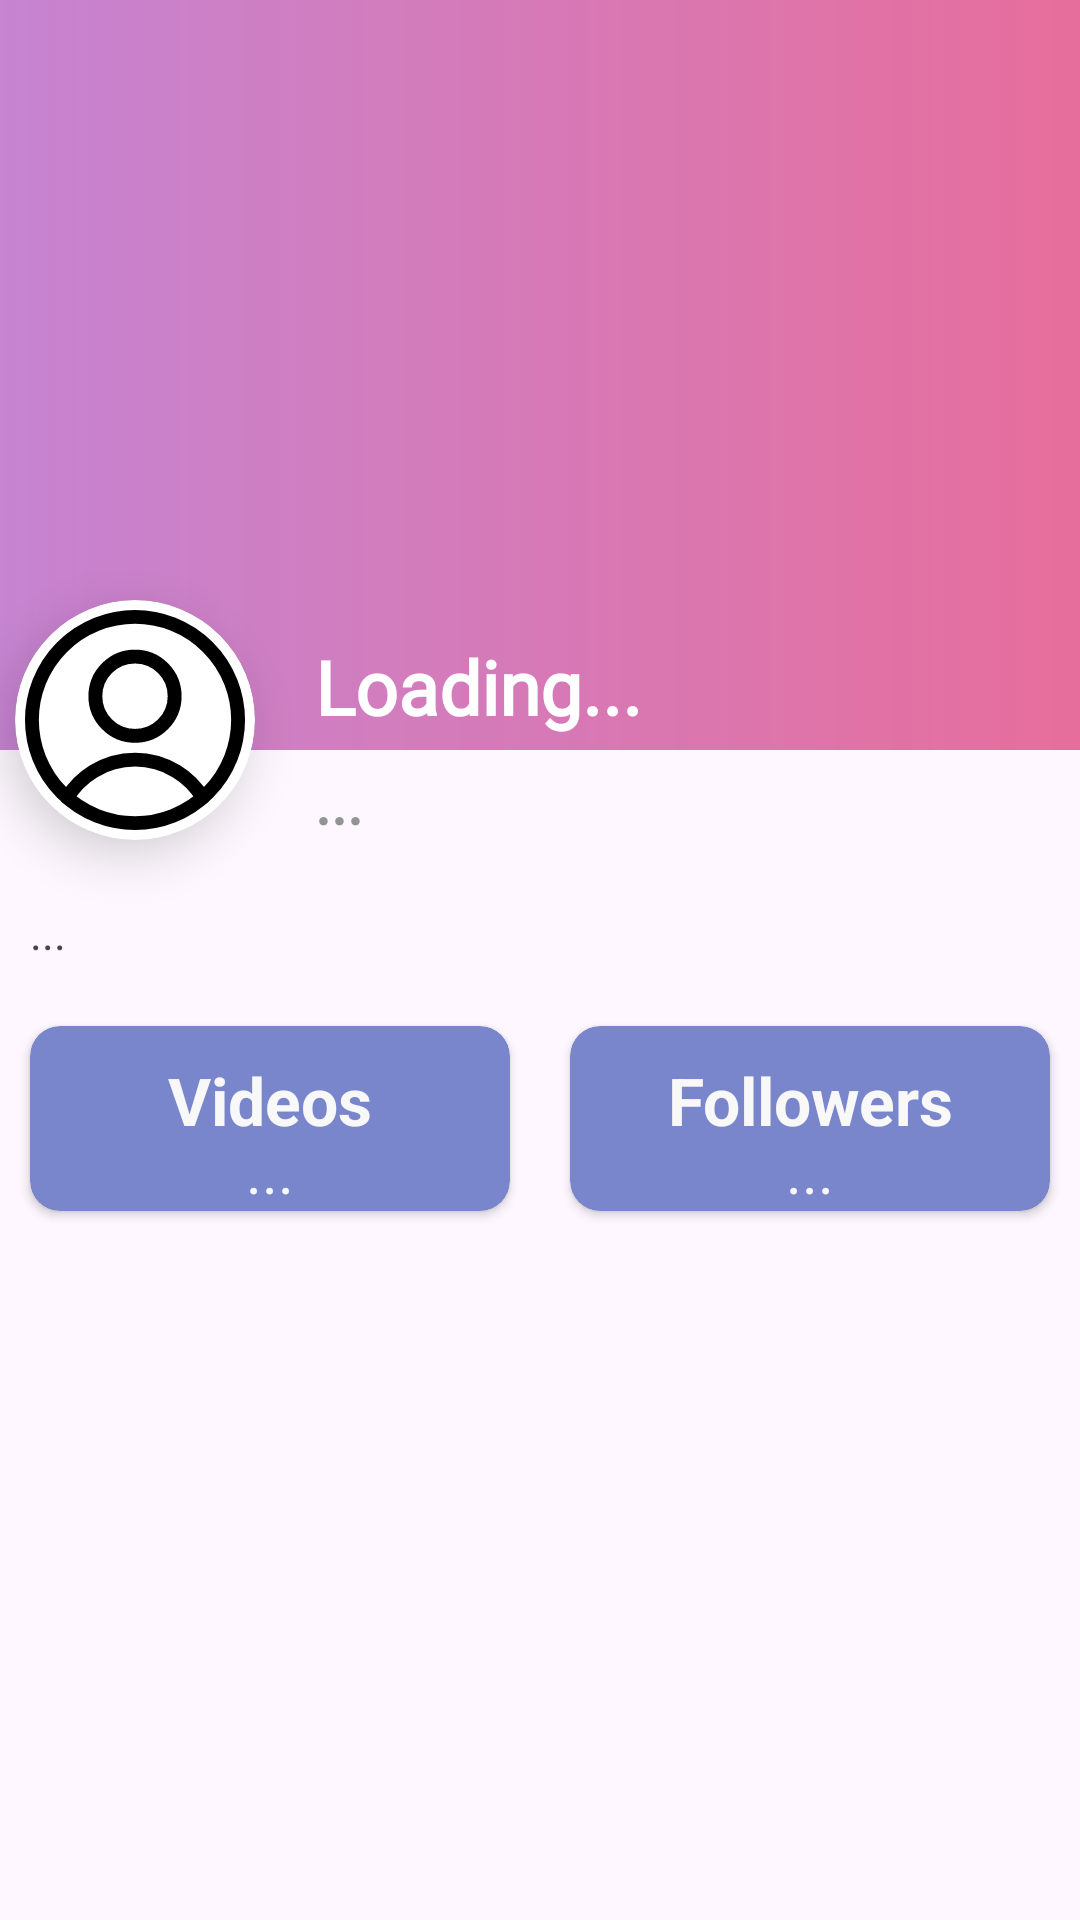

Where to tap for icons on this 1080*1920 app screen, as point (x, y):
profile: point (135, 720)
